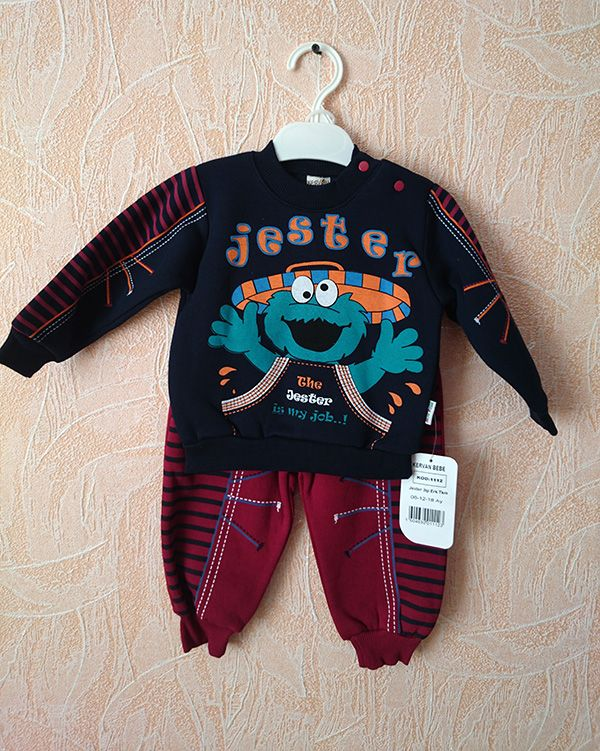clothes: (3, 150, 564, 683)
